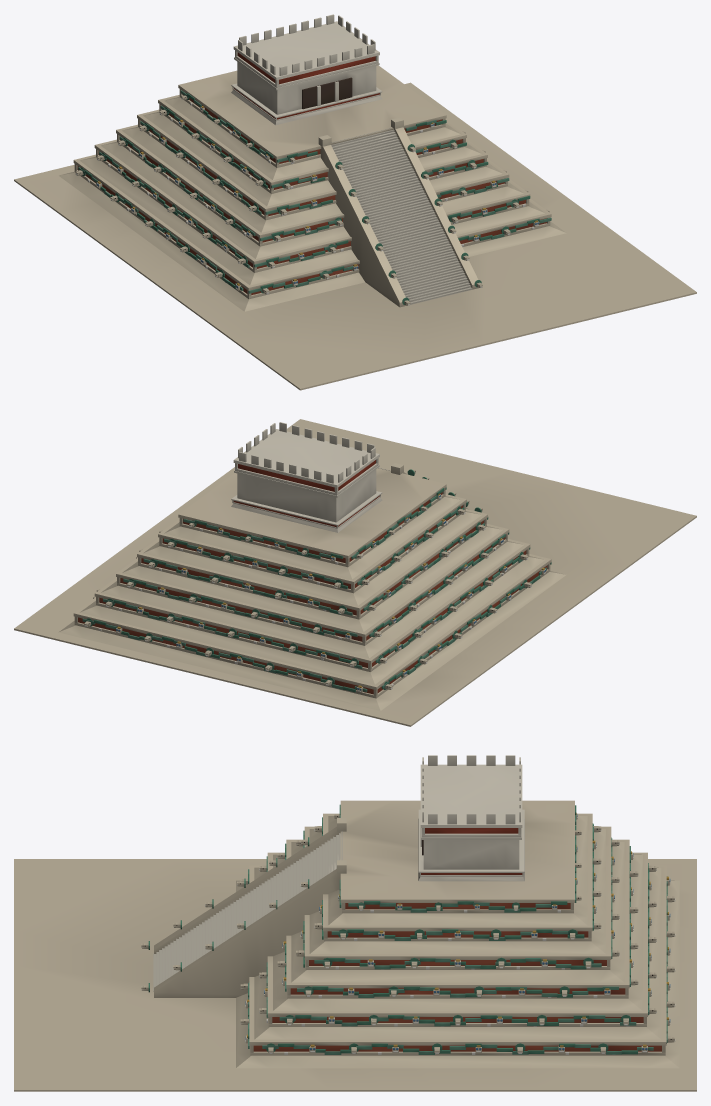
File: temple-of-the-feathered-serpent.glb
3 renders of one model, top to bottom at view 1: azimuth 30°, elevation 25°; view 2: azimuth 150°, elevation 25°; view 3: azimuth 270°, elevation 25°, orthographic. The views are drawn at different scales.
Parts seen in each view (by area): view 1: p1_pyramid, p0_ground, p2_temple; view 2: p1_pyramid, p0_ground, p2_temple; view 3: p1_pyramid, p0_ground, p2_temple.
Boxes of the visible parts, left/top/right/bottom form: p1_pyramid: left=59, top=65, right=566, bottom=311; p0_ground: left=14, top=82, right=696, bottom=390; p2_temple: left=231, top=14, right=482, bottom=307; p1_pyramid: left=58, top=467, right=566, bottom=710; p0_ground: left=14, top=419, right=696, bottom=726; p2_temple: left=231, top=422, right=482, bottom=532; p1_pyramid: left=236, top=800, right=679, bottom=1068; p0_ground: left=14, top=859, right=696, bottom=1091; p2_temple: left=141, top=755, right=524, bottom=997.
Bounding box in the file's own units: 80 × 30.96 × 100.
